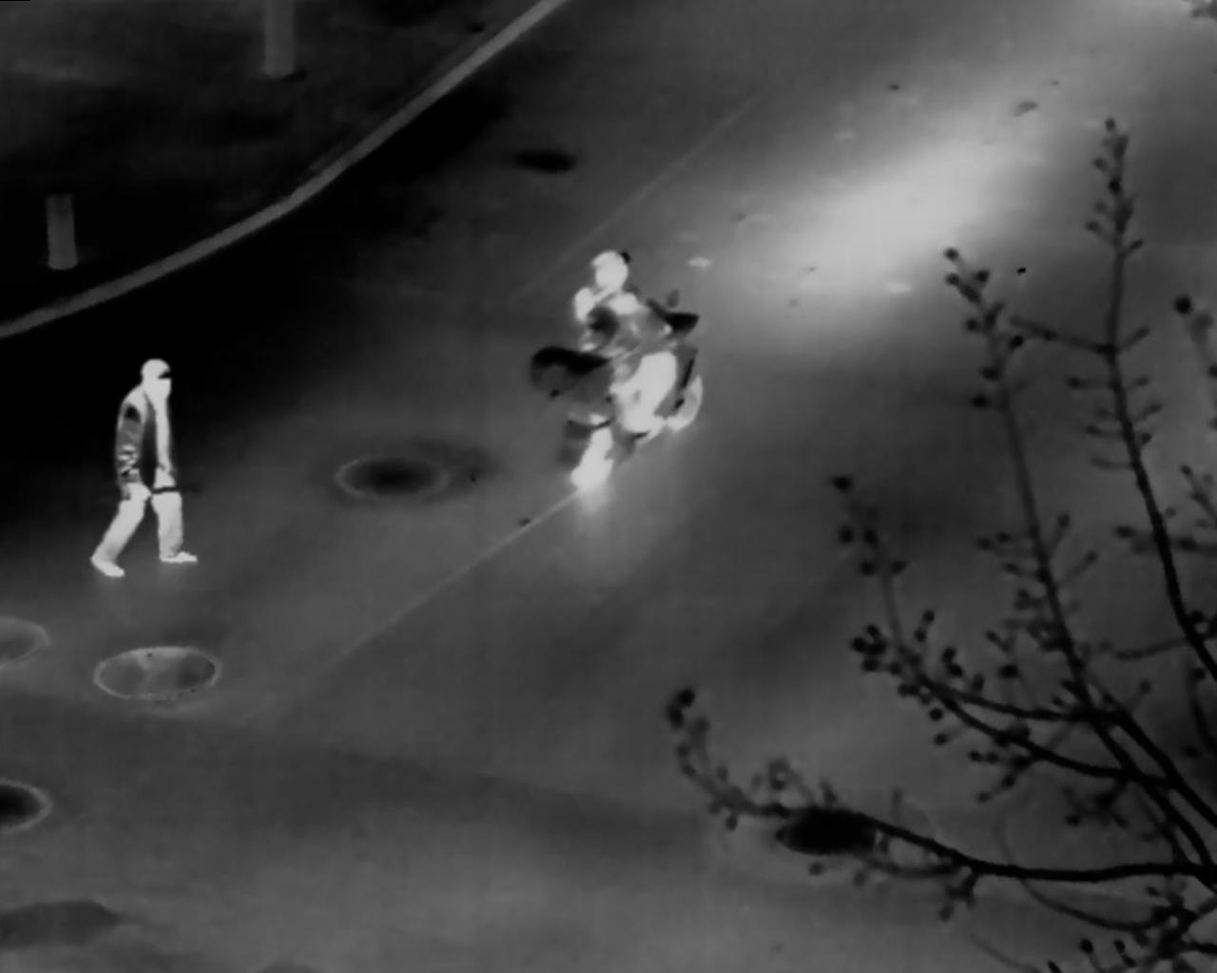person: (88, 359, 198, 579), (572, 249, 677, 430)
